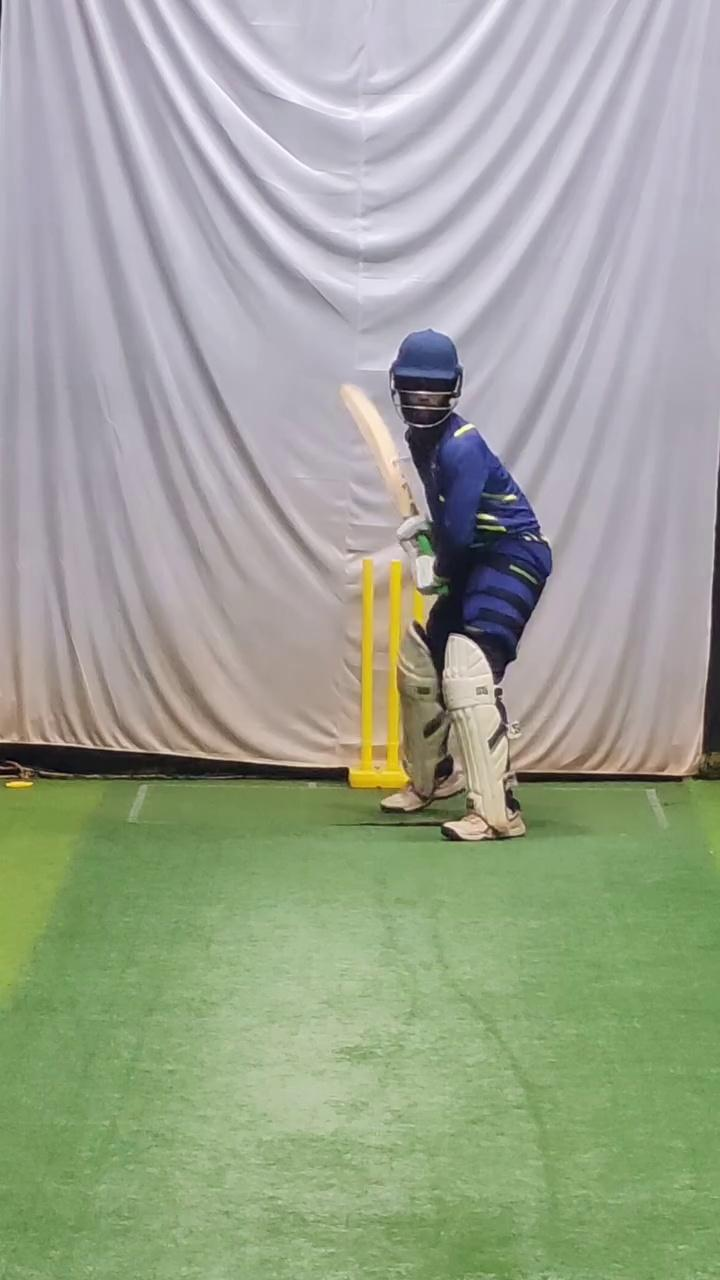bat: (337, 376, 420, 525)
